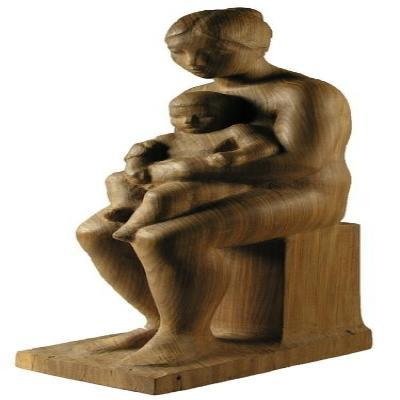sculpture: (14, 8, 373, 396)
